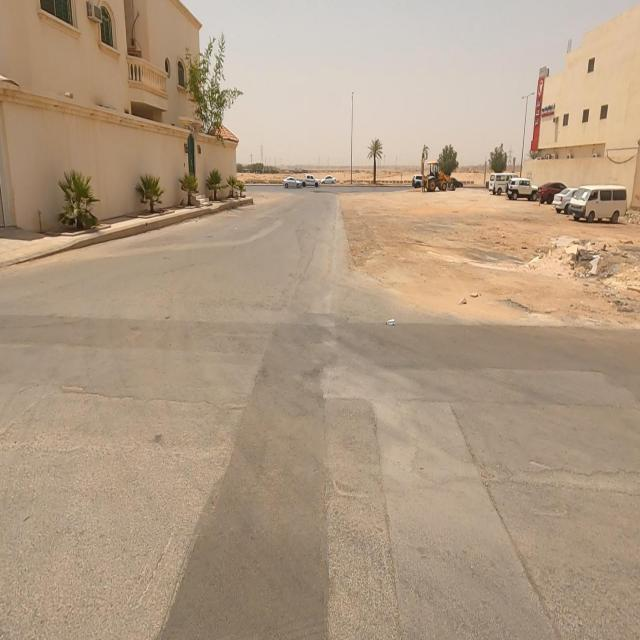debris: (524, 192, 634, 326), (368, 290, 414, 350)
